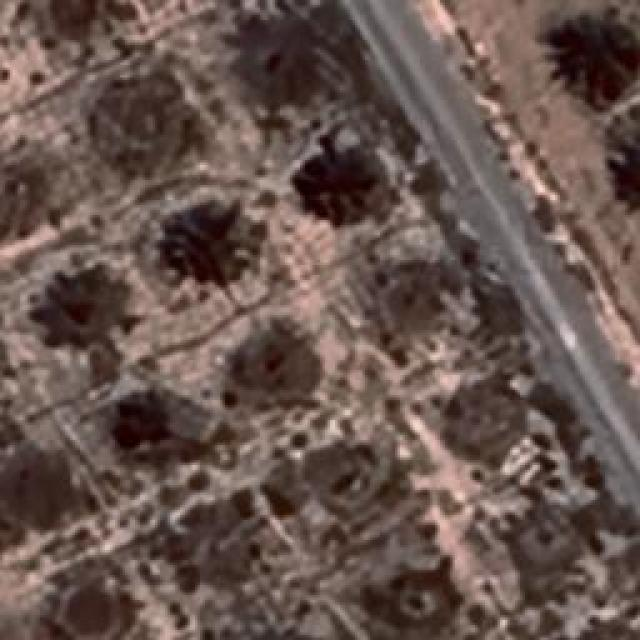PalmTree: (75, 68, 625, 170), (29, 91, 151, 424), (555, 8, 640, 98), (38, 276, 132, 352), (302, 146, 386, 222), (170, 205, 252, 280), (620, 125, 640, 214)
